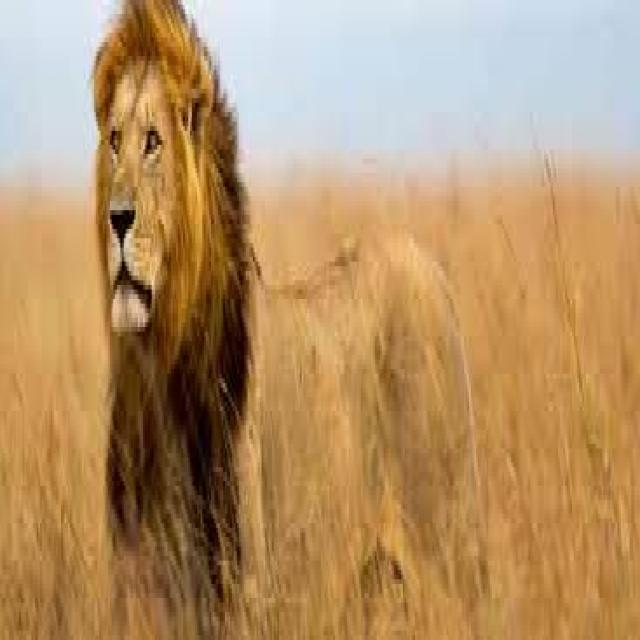Lion: (100, 8, 261, 545)
